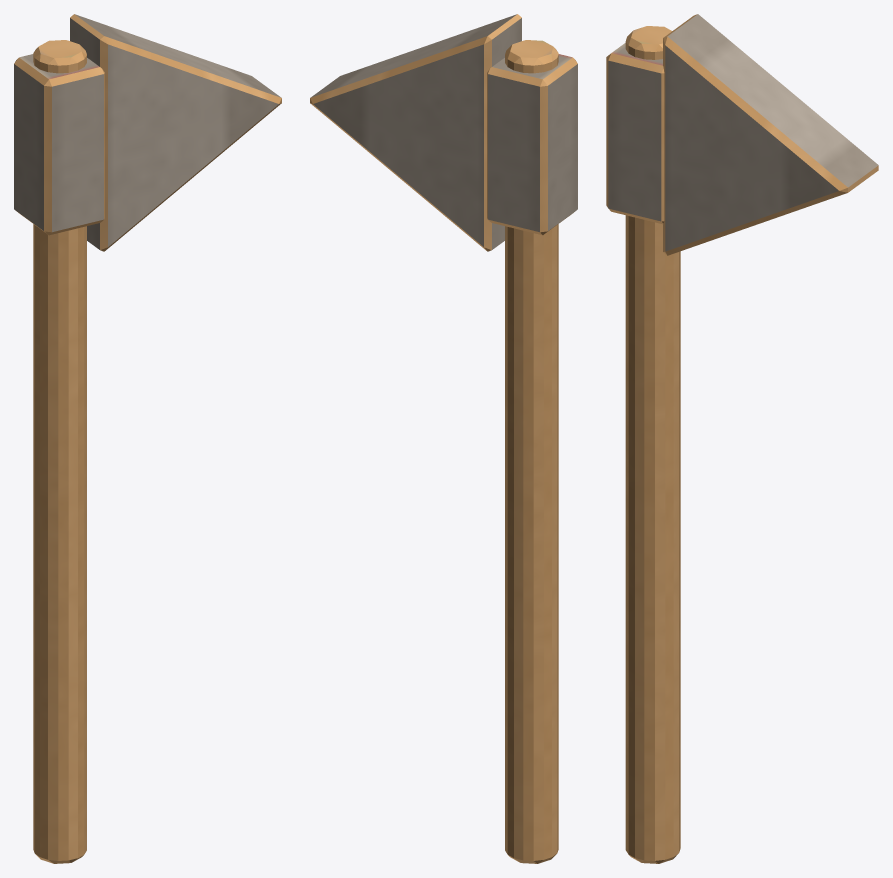
Rendered from sm_tool_axe_upgraded.glb.
3 renders of one model, left to right at view 1: azimuth 30°, elevation 25°; view 2: azimuth 150°, elevation 25°; view 3: azimuth 330°, elevation 25°, orthographic.
Visible parts, largest first — view 1: sm_tool_axe_upgraded; view 2: sm_tool_axe_upgraded; view 3: sm_tool_axe_upgraded.
Boxes of the visible parts, x1,y1,x2,y2 form: sm_tool_axe_upgraded: (14,14,281,863); sm_tool_axe_upgraded: (310,14,577,863); sm_tool_axe_upgraded: (606,14,878,863).
Size of the model in its own units: 0.1915 by 0.633 by 0.05.
1 material, 1 textured.
